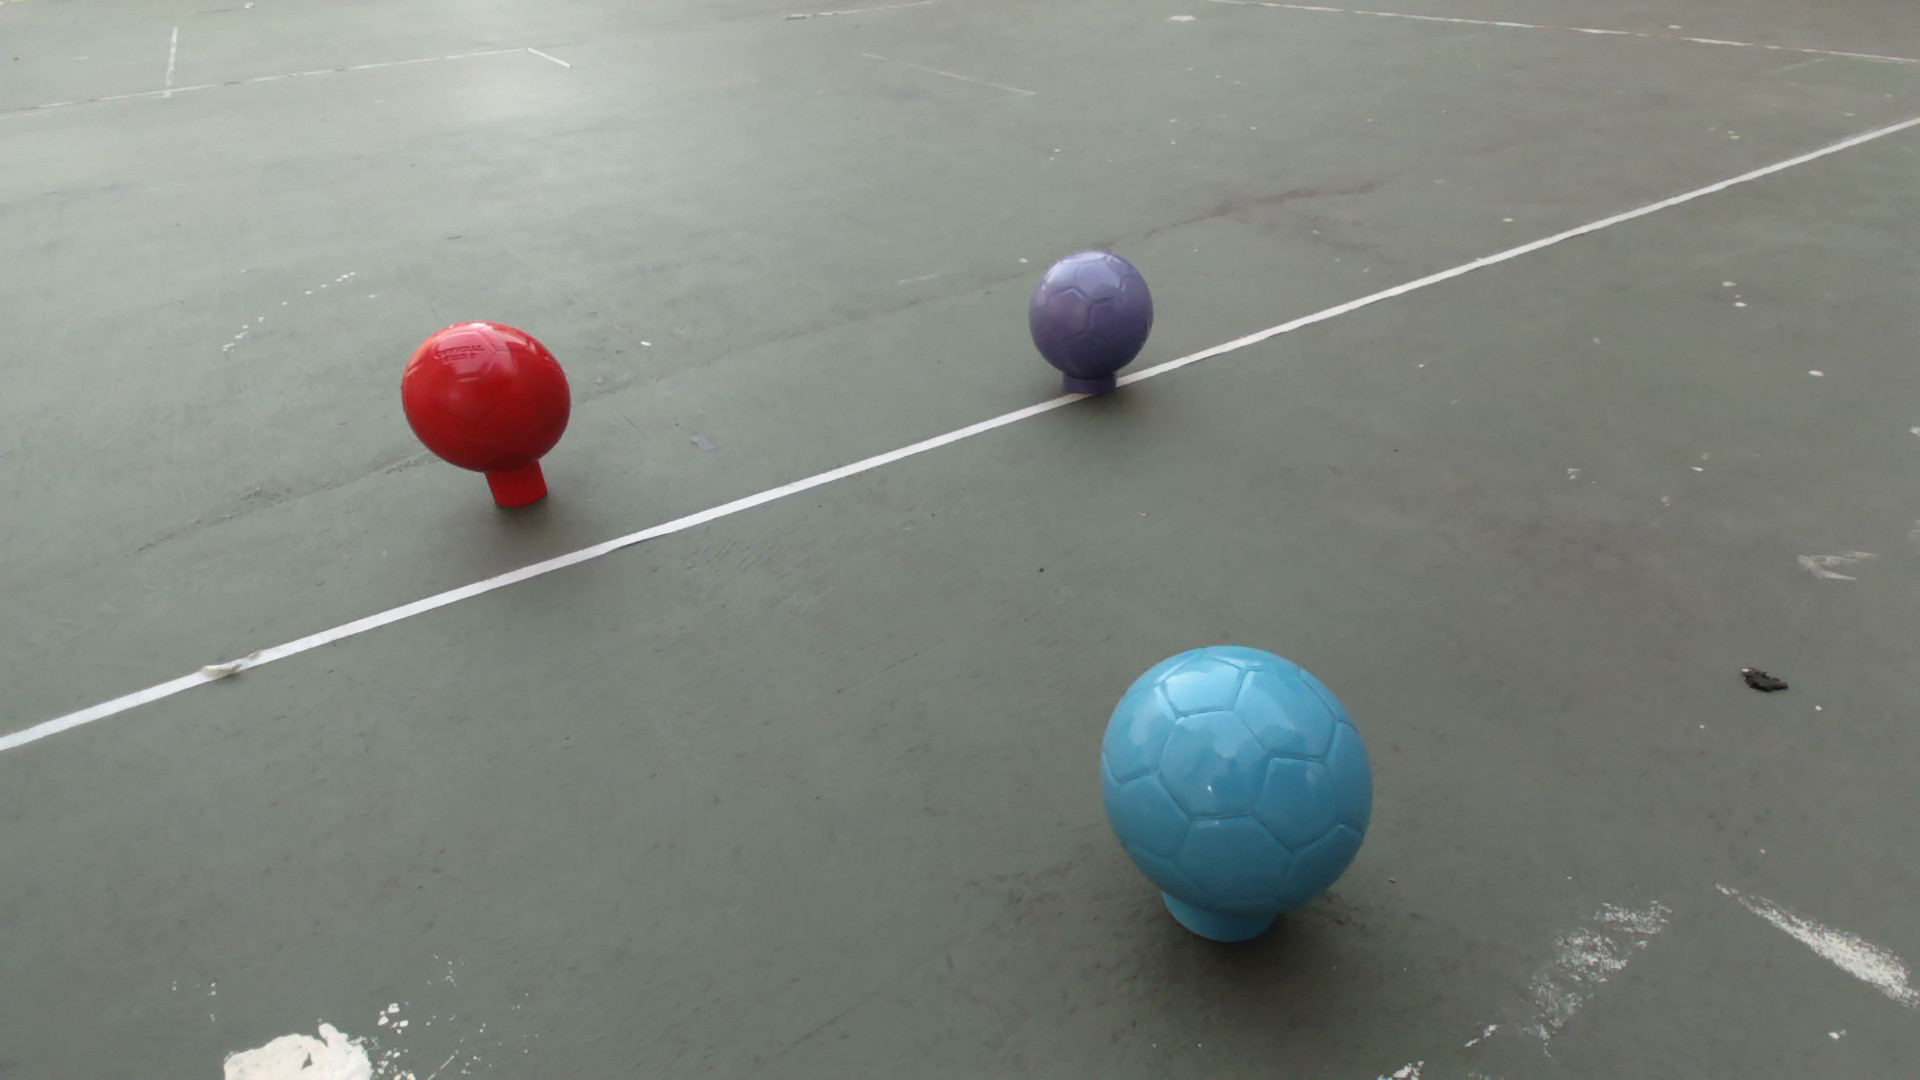Blue ball: (1096, 642, 1377, 926)
Purple ball: (1026, 247, 1155, 380)
Red ball: (398, 316, 574, 477)
